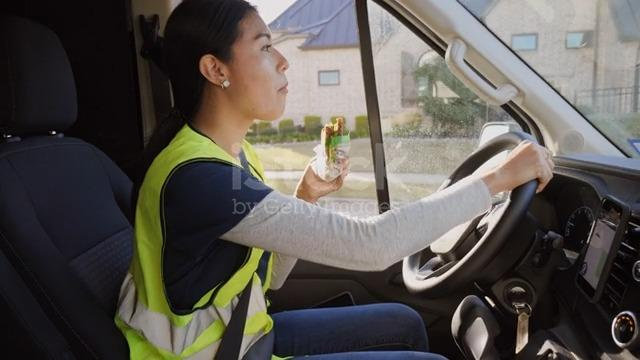Eating: (146, 2, 377, 216)
